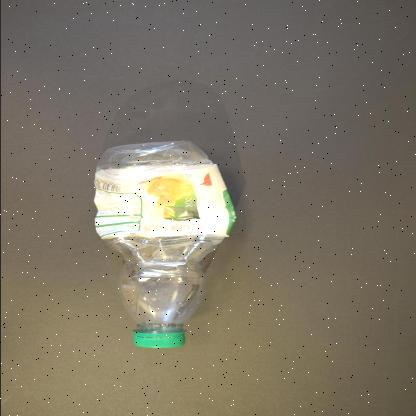Plastic Bottle: (93, 142, 235, 348)
